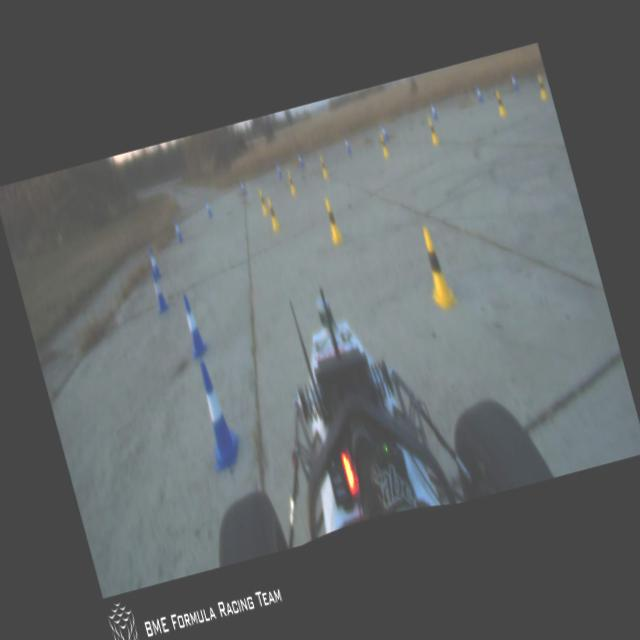blue_cone: (187, 358, 245, 470), (177, 293, 209, 359), (146, 270, 170, 312), (146, 245, 162, 280), (171, 216, 184, 244), (203, 196, 213, 218), (342, 136, 352, 156), (429, 101, 439, 120), (380, 122, 389, 142), (509, 73, 519, 91), (297, 153, 305, 170), (239, 180, 247, 196), (475, 86, 483, 101), (276, 163, 282, 178)
yellow_cone: (414, 225, 458, 311), (322, 196, 344, 243), (264, 198, 280, 230), (534, 72, 550, 102), (425, 116, 440, 145), (256, 187, 268, 216), (494, 90, 507, 116), (285, 170, 297, 196), (378, 133, 390, 158), (318, 156, 330, 180)
